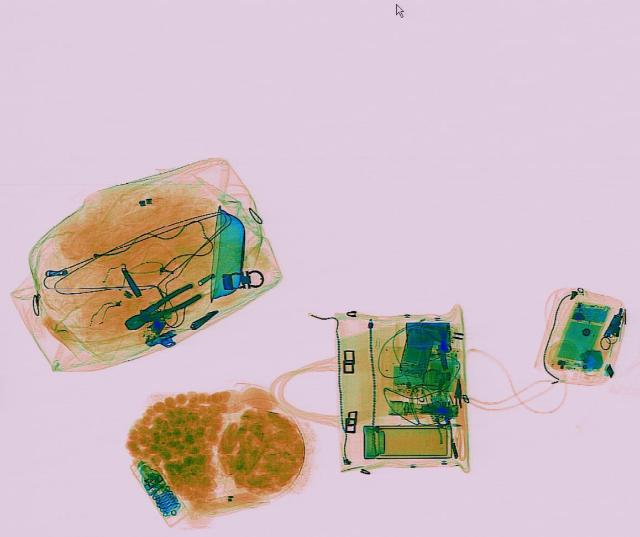Pliers: (116, 280, 204, 334)
